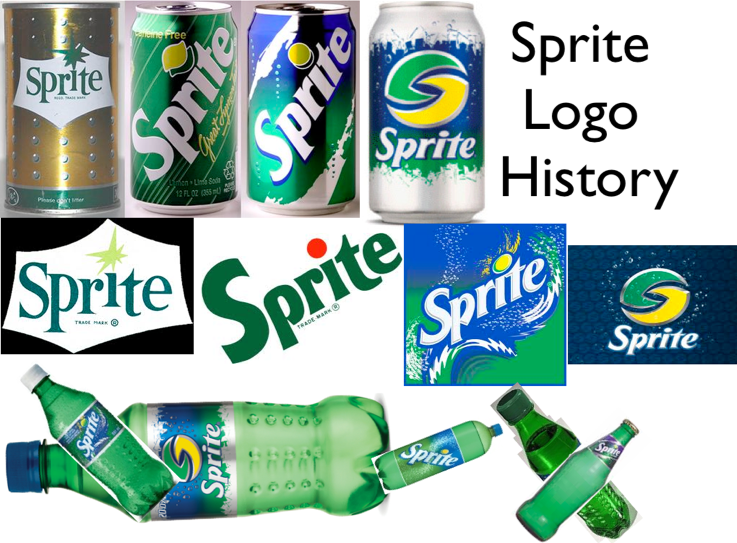sprite: (133, 25, 232, 180), (254, 25, 350, 184), (413, 252, 544, 348), (417, 252, 544, 347), (374, 124, 474, 162), (607, 323, 697, 355), (401, 440, 457, 467), (401, 442, 455, 467), (406, 442, 455, 467), (76, 410, 94, 454), (595, 440, 620, 454)
